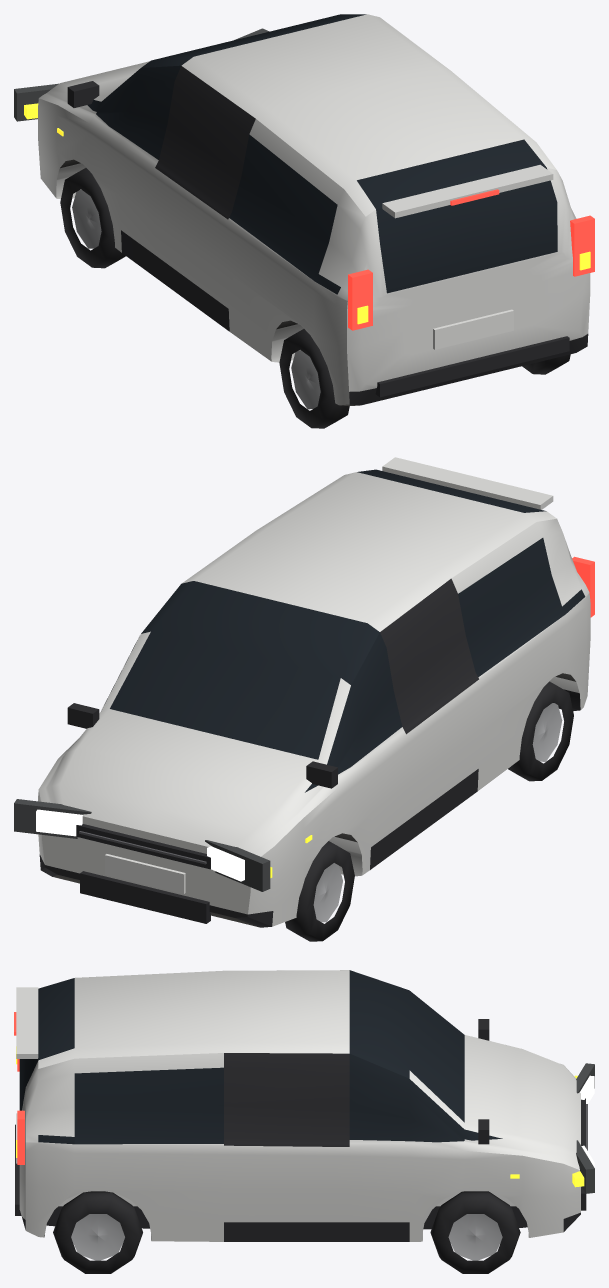
Rendered from hatchback_lod1.glb.
The picture shows the model from 3 angles, top to bottom: view 1: azimuth 30°, elevation 25°; view 2: azimuth 150°, elevation 25°; view 3: azimuth 270°, elevation 25°; orthographic projection. The views are drawn at different scales.
Visible parts, largest first — view 1: body, wheel_rl, wheel_fl; view 2: body, wheel_fl, wheel_rl; view 3: body, wheel_fr, wheel_rr.
Boxes of the visible parts, box(x1,y1,x2,y2) form: body: box(14, 14, 594, 406); wheel_rl: box(279, 329, 349, 428); wheel_fl: box(60, 168, 125, 268); body: box(14, 457, 594, 927); wheel_fl: box(285, 841, 354, 941); wheel_rl: box(508, 681, 573, 781); body: box(14, 970, 594, 1241); wheel_fr: box(430, 1191, 520, 1273); wheel_rr: box(53, 1191, 142, 1273).
Bounding box in the file's own units: 1.67 × 1.53 × 3.69.
Materials: 2 (1 with a texture image).
